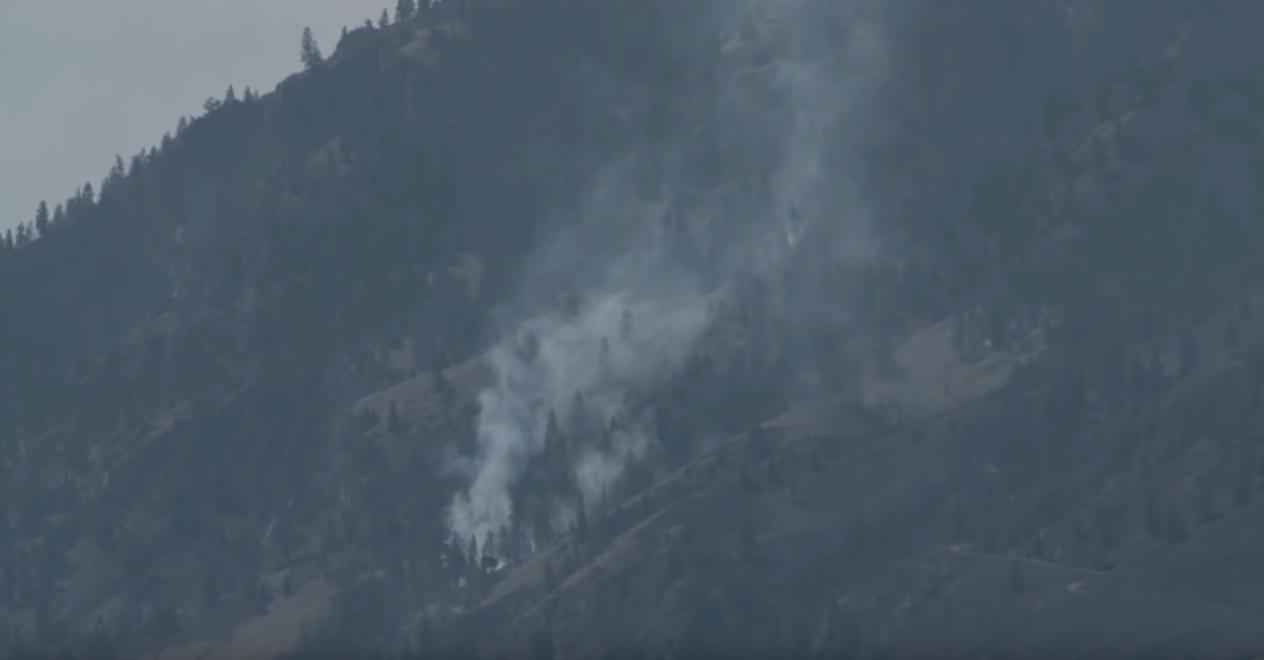smoke: (555, 198, 662, 405)
